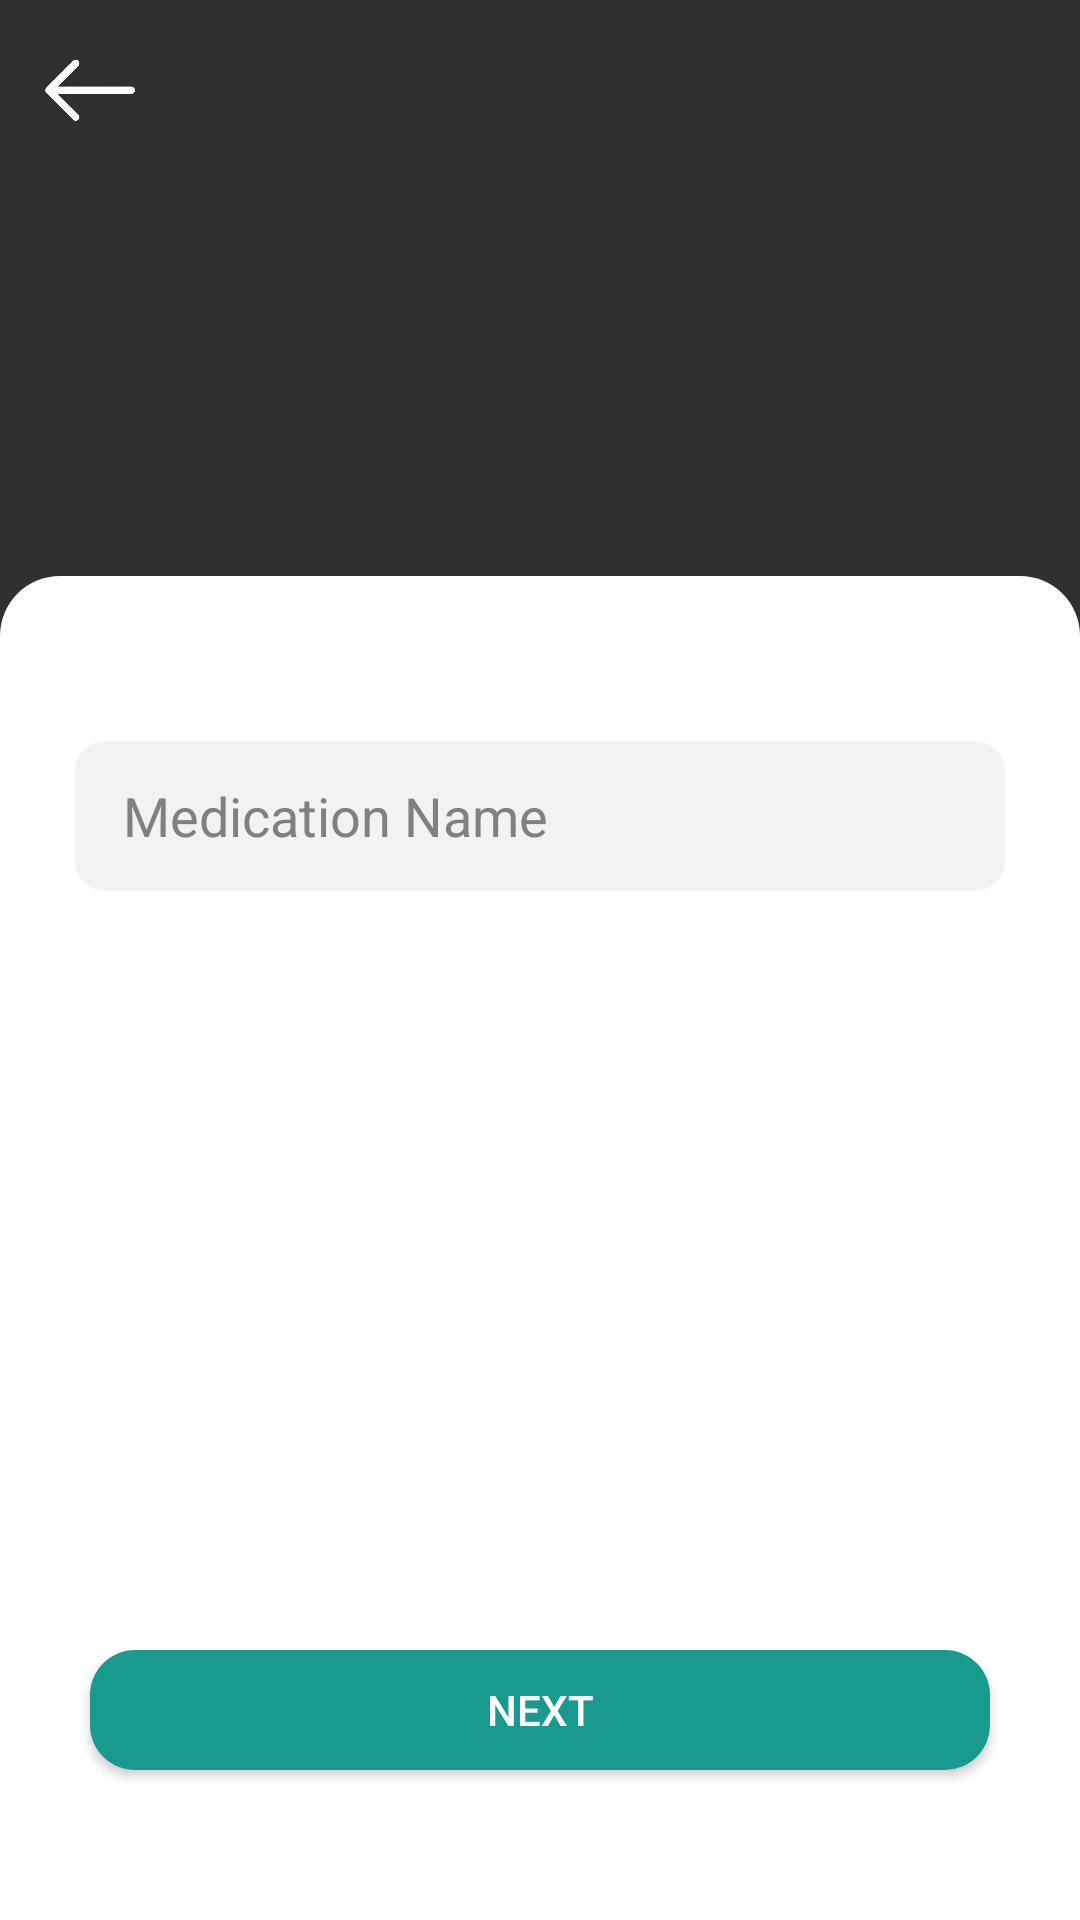

Icons on this 1080 × 1920 Android screen, each with the point to tap as (x,y):
back: (90,90)
